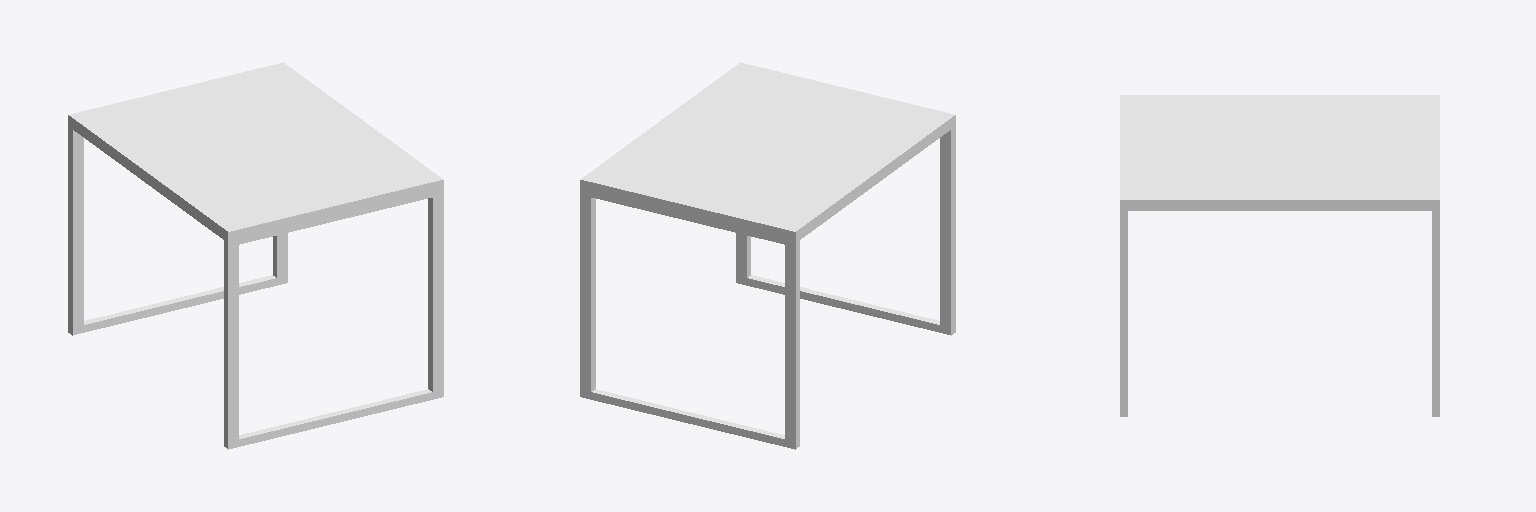
The model's file is Table1.obj.
3 views of the same model, side by side, from view 1: azimuth 30°, elevation 25°; view 2: azimuth 150°, elevation 25°; view 3: azimuth 270°, elevation 25° (orthographic).
Parts seen in each view (by area): view 1: object 1; view 2: object 1; view 3: object 1.
Part boxes in pixels (bbox=[...]): object 1: bbox=[68, 62, 443, 449]; object 1: bbox=[580, 62, 955, 449]; object 1: bbox=[1120, 95, 1439, 416].
Size of the model in its own units: 5.9 by 5.7 by 7.6.